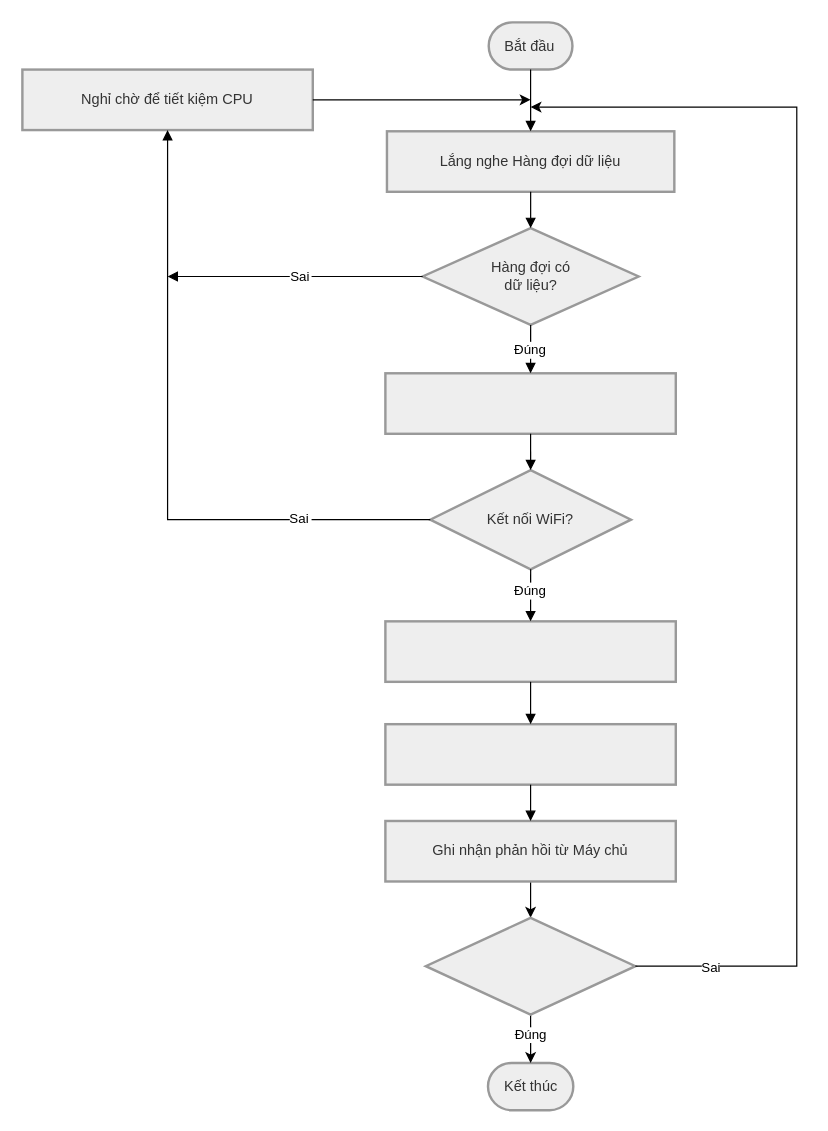
This 828x1131 diagram has some shape labels left out. Here are the shapes that lost their labels. From the top down, the box of each, then its label:
(384, 371, 676, 434): Lấy Gói dữ liệu ra khỏi Hàng đợi
(384, 620, 676, 682): Định dạng Dữ liệu thành chuẩn JSON
(384, 722, 676, 785): Gửi yêu cầu HTTP POST lên Máy chủ
(424, 916, 636, 1015): Tắt máy?
